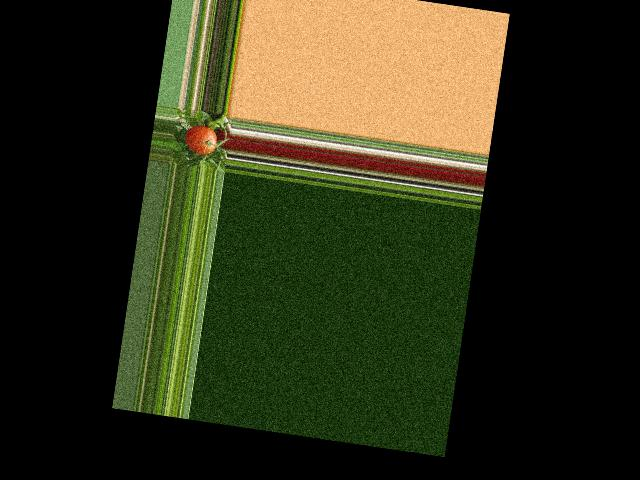tomato: (184, 124, 218, 156)
